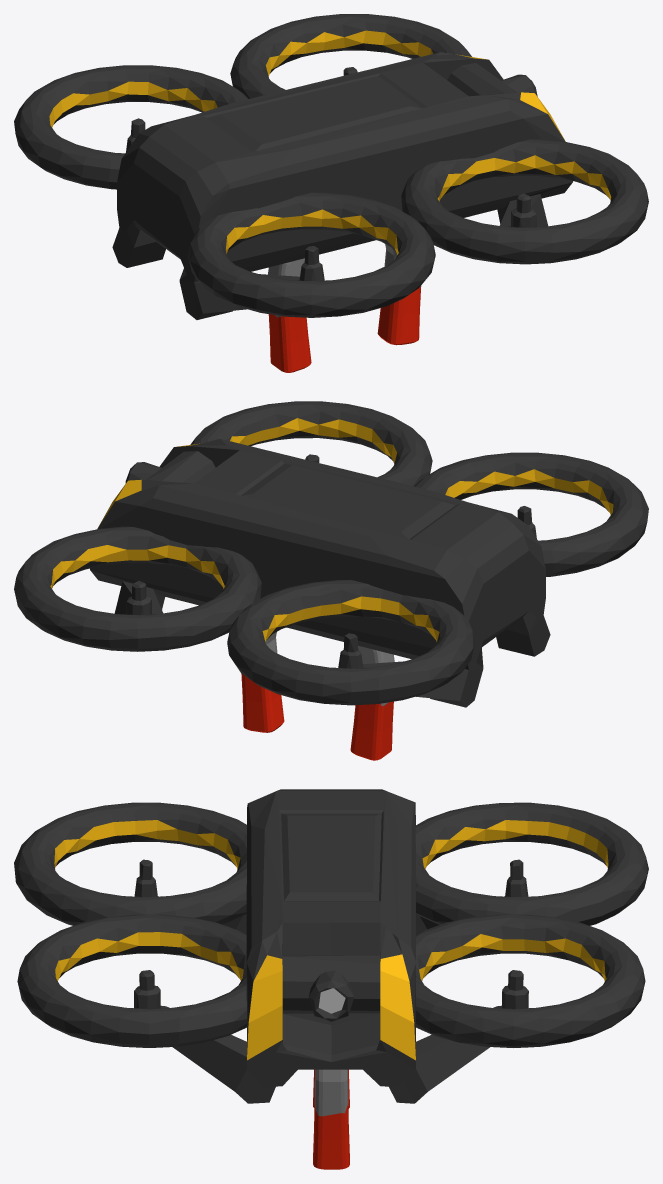
The model's file is drone.fbx.
3 renders of one model, top to bottom at view 1: azimuth 30°, elevation 25°; view 2: azimuth 150°, elevation 25°; view 3: azimuth 270°, elevation 25°, orthographic. The views are drawn at different scales.
Visible parts, largest first — view 1: Torus, Cube, Cube.003, Cube.001, Cylinder; view 2: Torus, Cube, Cube.003, Cube.001, Cylinder; view 3: Torus, Cube, Cube.001, Cylinder, Cube.003.
Boxes of the visible parts, left/top/right/bottom form: Torus: left=14, top=14, right=648, bottom=317; Cube: left=112, top=52, right=572, bottom=319; Cube.003: left=268, top=244, right=421, bottom=372; Cube.001: left=126, top=67, right=548, bottom=319; Cylinder: left=447, top=63, right=537, bottom=96; Torus: left=14, top=401, right=648, bottom=705; Cube: left=90, top=439, right=550, bottom=707; Cube.003: left=241, top=632, right=394, bottom=760; Cube.001: left=114, top=454, right=536, bottom=707; Cylinder: left=125, top=451, right=215, bottom=483; Torus: left=14, top=802, right=648, bottom=1047; Cube: left=235, top=789, right=427, bottom=1103; Cube.001: left=134, top=859, right=528, bottom=1091; Cylinder: left=282, top=955, right=380, bottom=1021; Cube.003: left=313, top=1069, right=349, bottom=1169.
Bounding box in the file's own units: 228 × 128 × 274.
